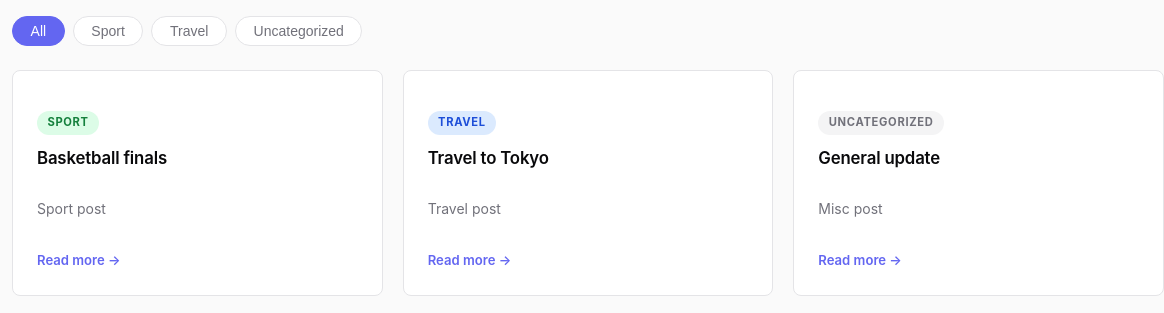
filters to Sport only
Click the button "Sport".
click(108, 31)  # box [73,16,144,46]
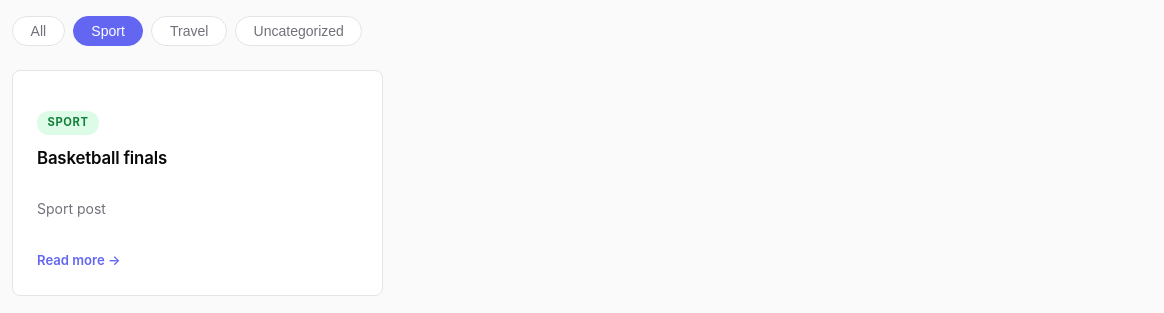
expect the link "Basketball finals" is shown: met, box [37,148,167,168]
expect the link "Travel to Tokyo" is gone: met
expect the link "General update" is gone: met
